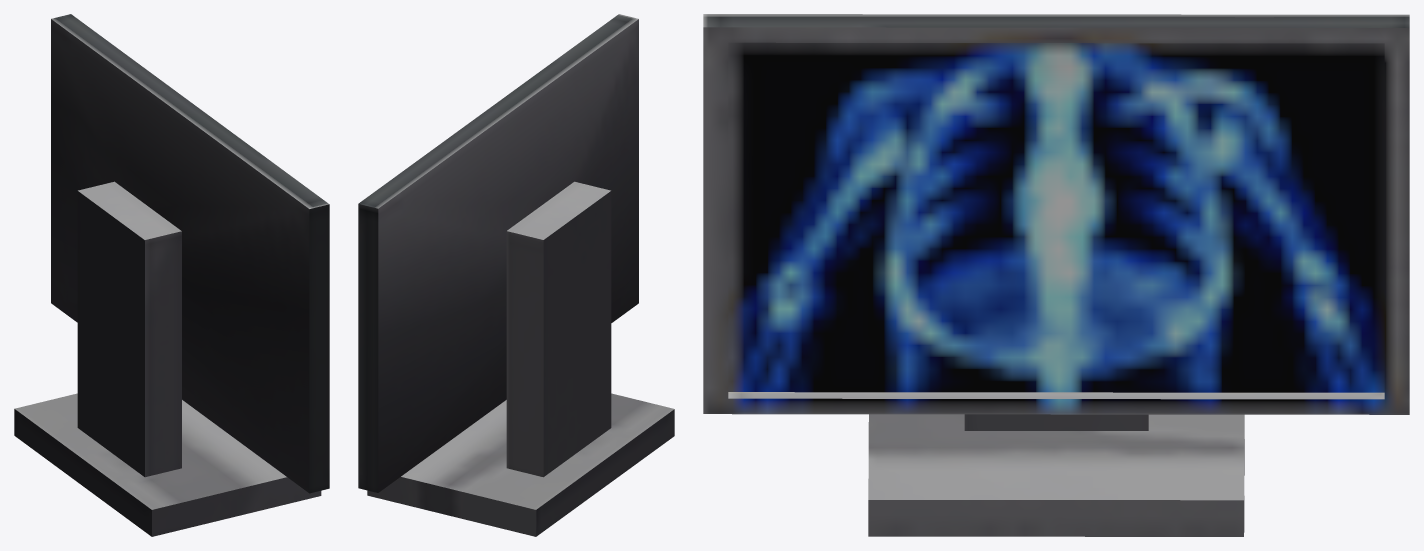
The model's file is Tx_prop_monitor_9.fbx.
3 renders of one model, left to right at view 1: azimuth 30°, elevation 25°; view 2: azimuth 150°, elevation 25°; view 3: azimuth 270°, elevation 25°, orthographic. The views are drawn at different scales.
Parts seen in each view (by area): view 1: Tx_prop_monitor_11; view 2: Tx_prop_monitor_11; view 3: Tx_prop_monitor_11.
Boxes of the visible parts, x1,y1,x2,y2 form: Tx_prop_monitor_11: (14,14,329,536); Tx_prop_monitor_11: (358,14,674,536); Tx_prop_monitor_11: (703,14,1409,536).
Size of the model in its own units: 1.18 by 2.32 by 3.13.
